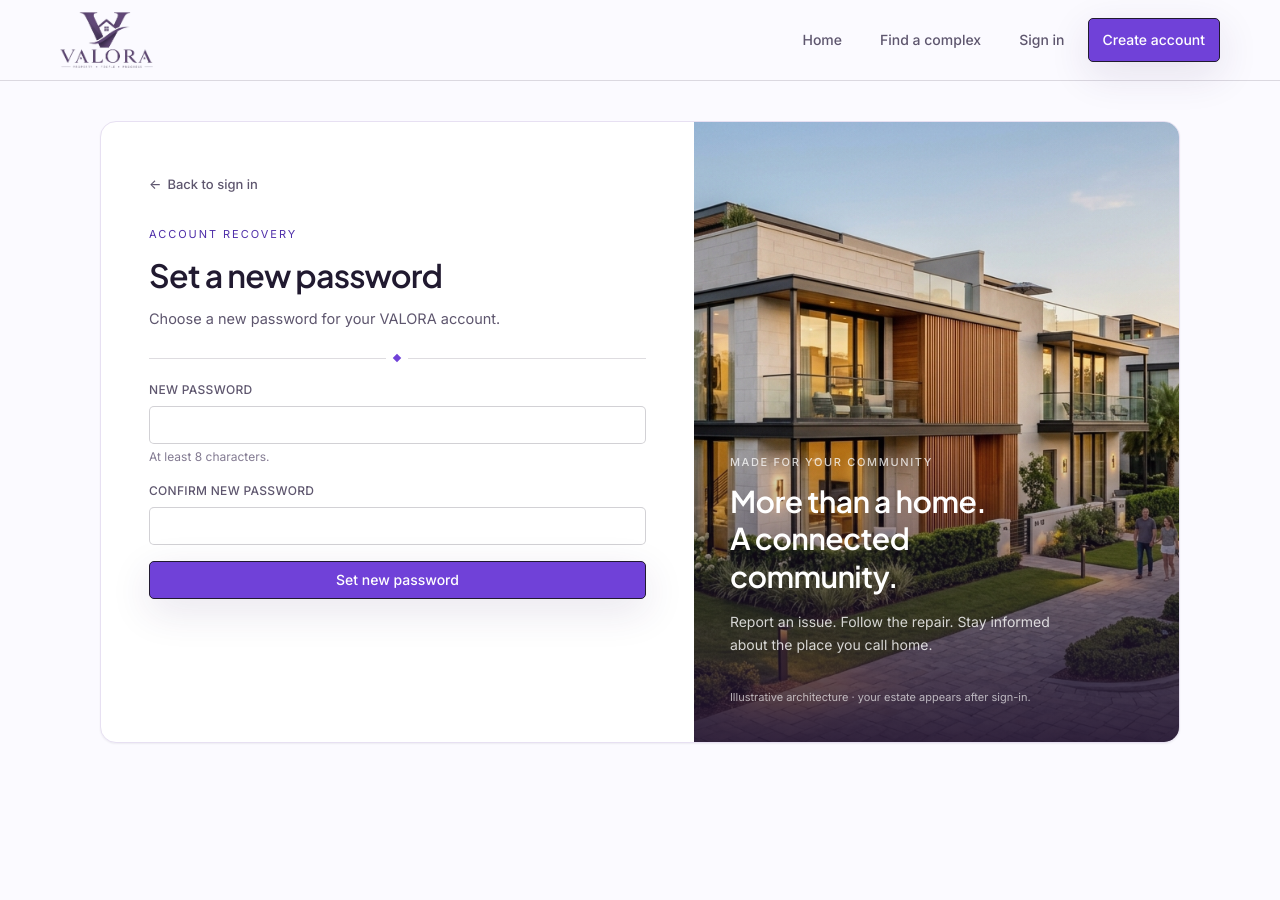
PasswordRecovery › only sends the reset token and new password to the confirmation endpoint
Type "NewSecurePass1" into the password field labelled "New password" at [397, 425], box [149,406,646,444]
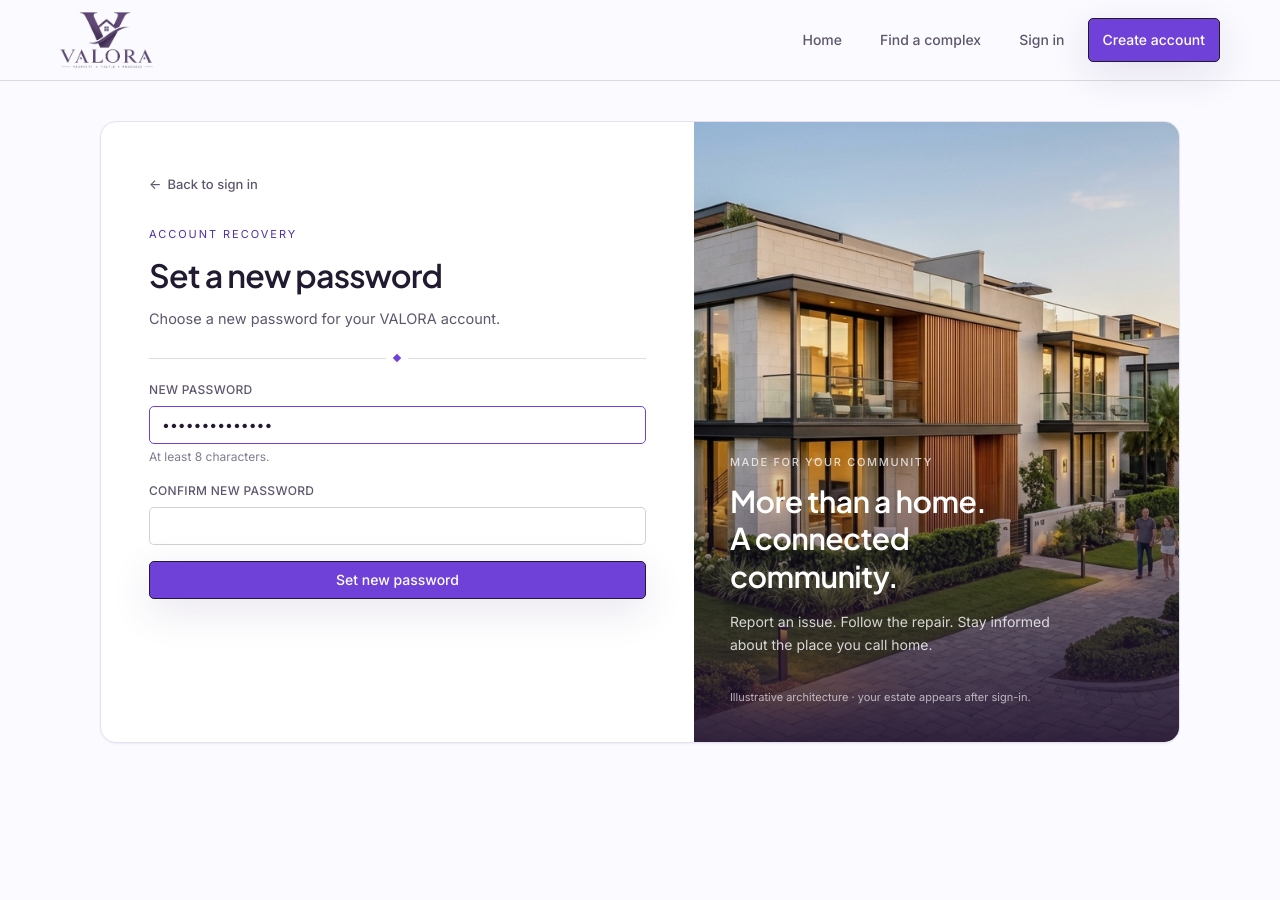
Type "NewSecurePass1" into the password field labelled "Confirm new password" at [397, 526], box [149,507,646,545]
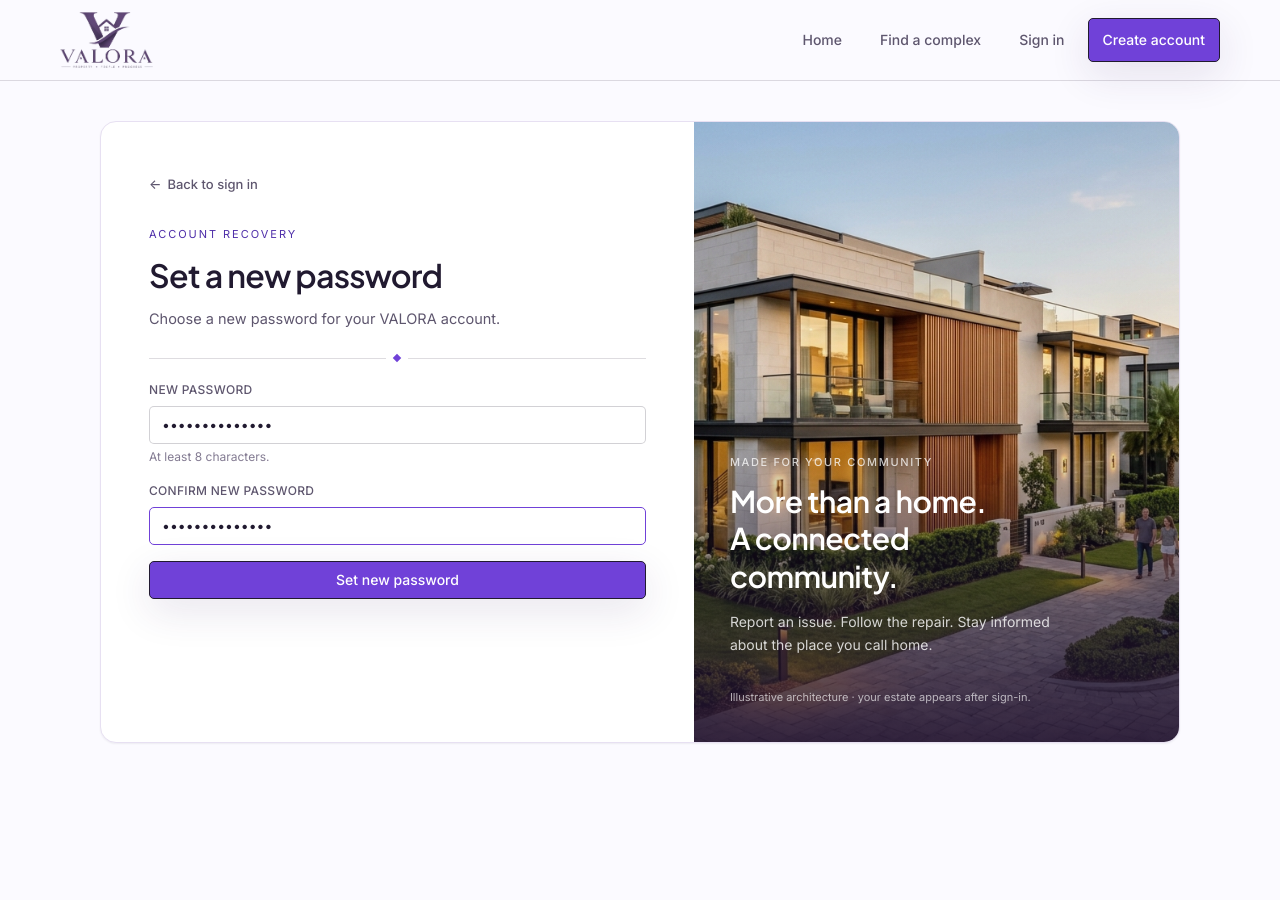
Click the button "Set new password" at [397, 580], box [149,561,646,599]
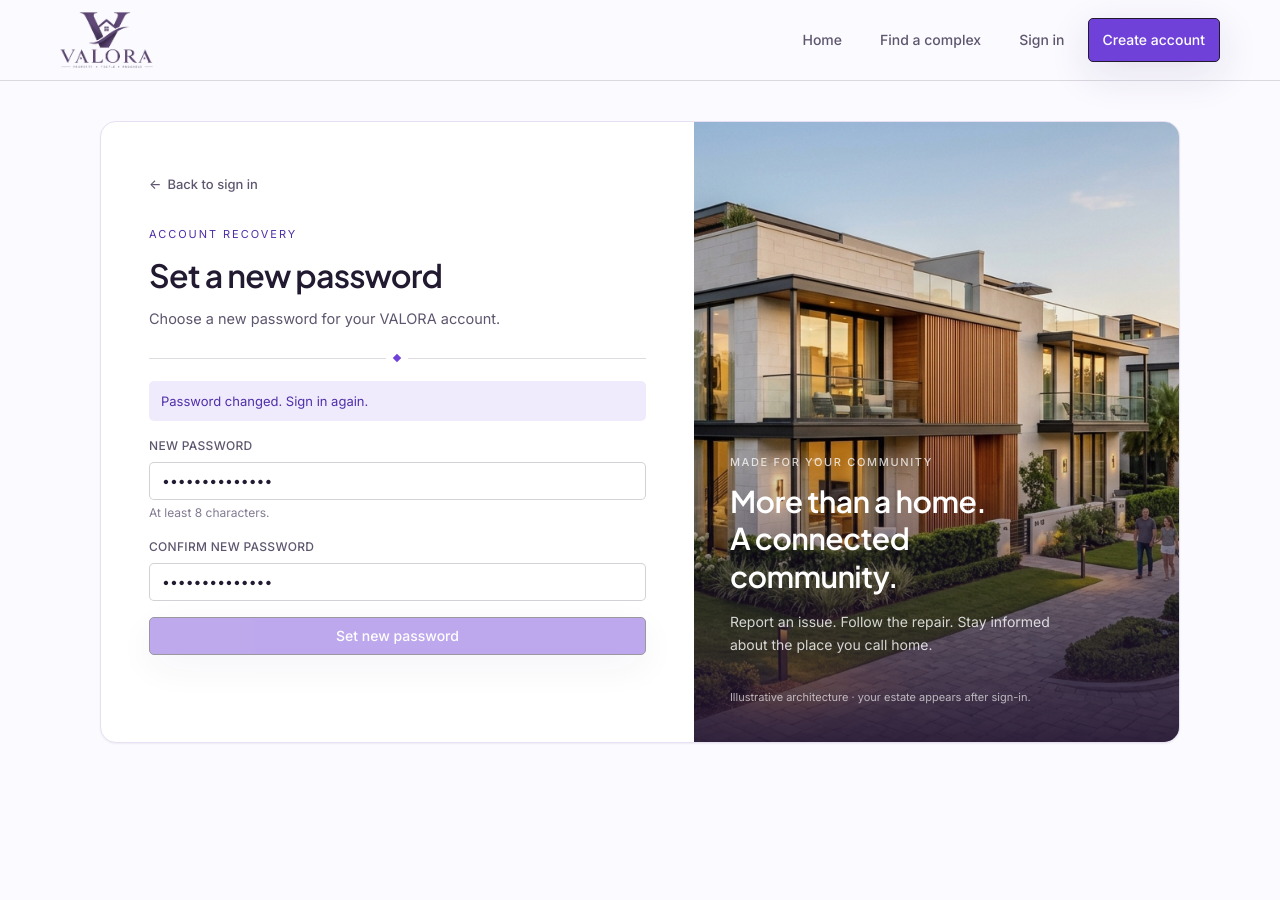
Expected: the text "Password changed. Sign in again." is shown, [149,381,646,421]
